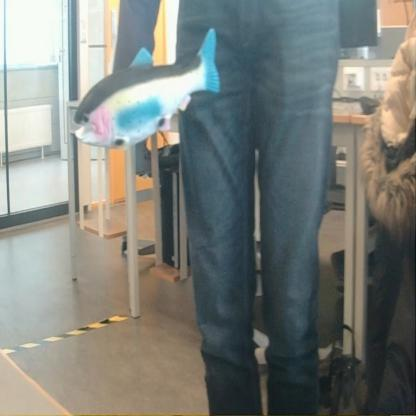rubberfish: (69, 23, 224, 154)
